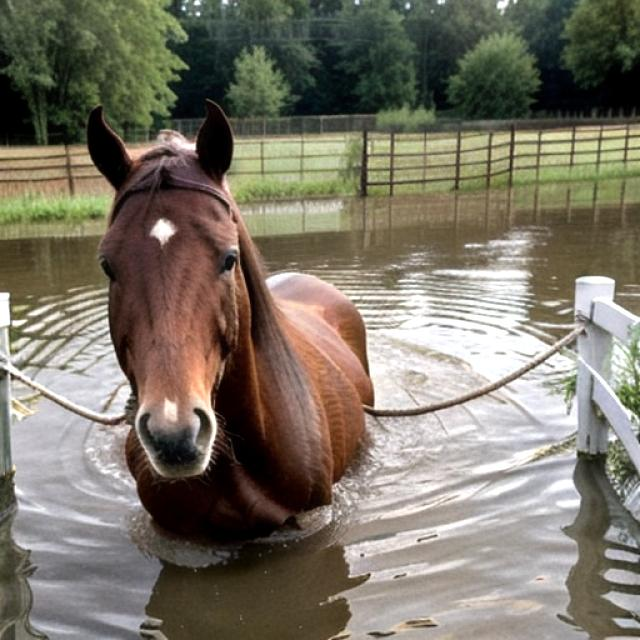horse: (70, 89, 383, 578)
